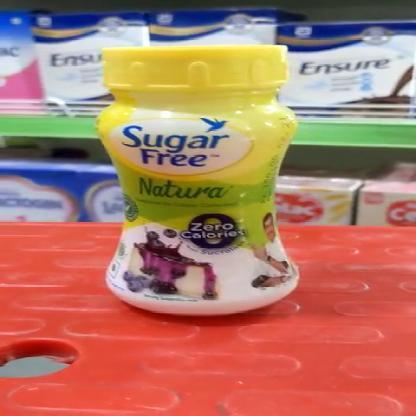SUGAR FREE NATURA_ POWDER_CONC_100G: (95, 42, 302, 316)
